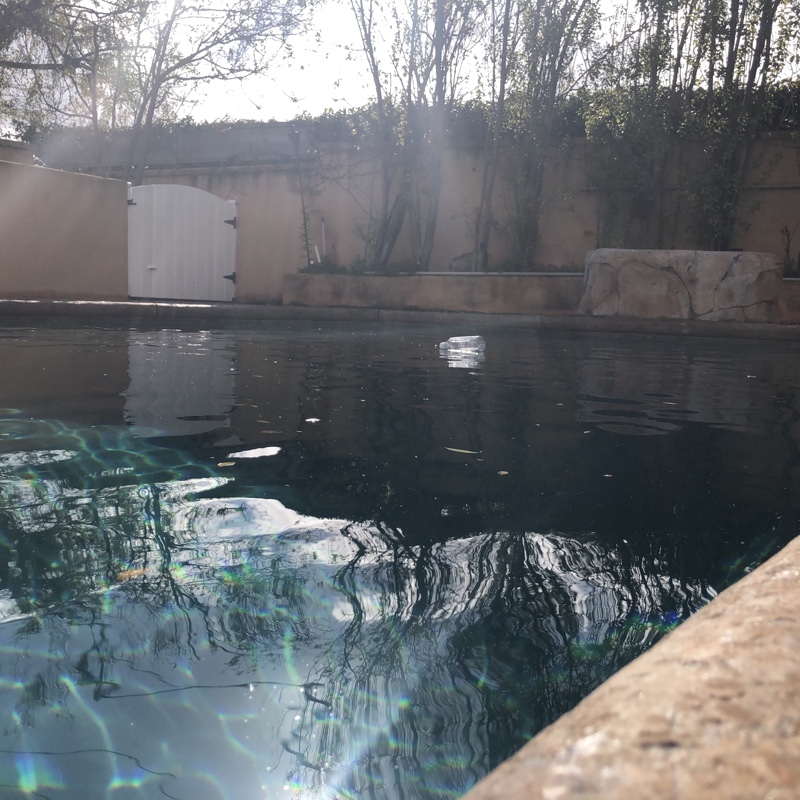Plastic Bottle: (437, 333, 483, 353)
